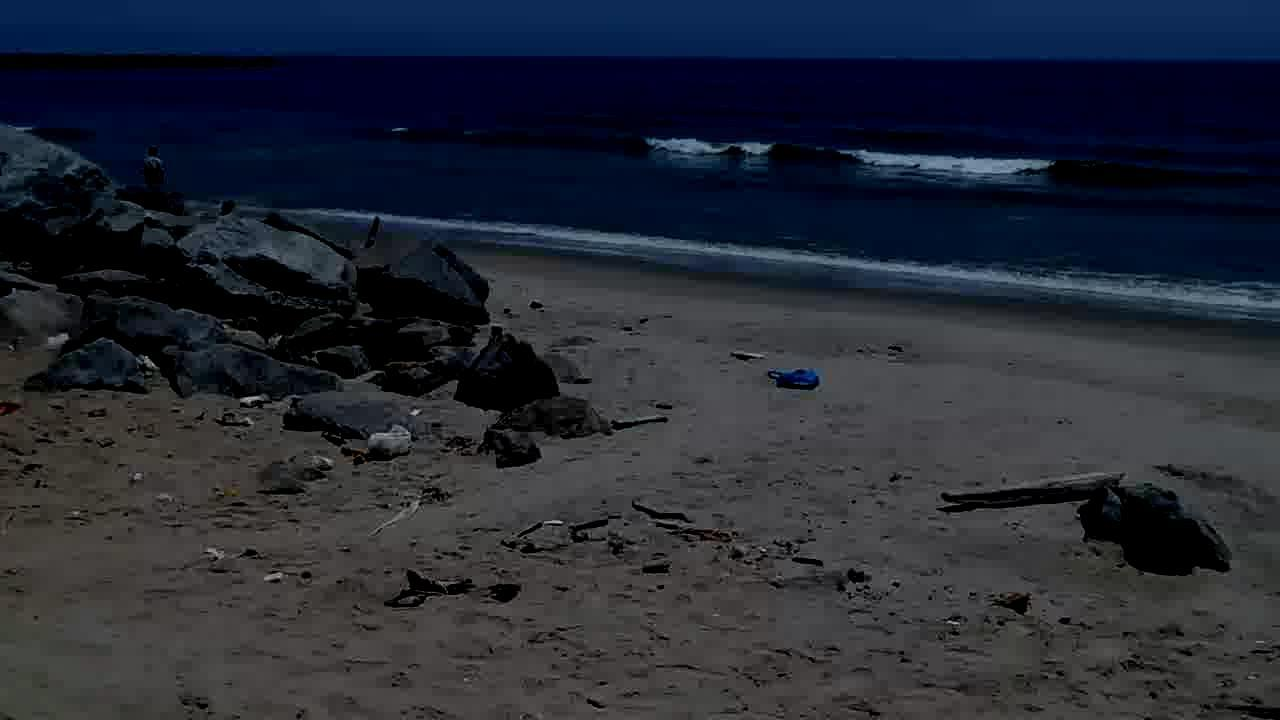large collection of objects: (145, 144, 163, 184)
obj: (1084, 488, 1238, 582), (941, 470, 1128, 512), (386, 562, 531, 610), (366, 484, 448, 537), (340, 426, 414, 464), (764, 364, 822, 391), (616, 415, 670, 432), (728, 345, 771, 364)
sand/background: (0, 0, 1279, 457)
